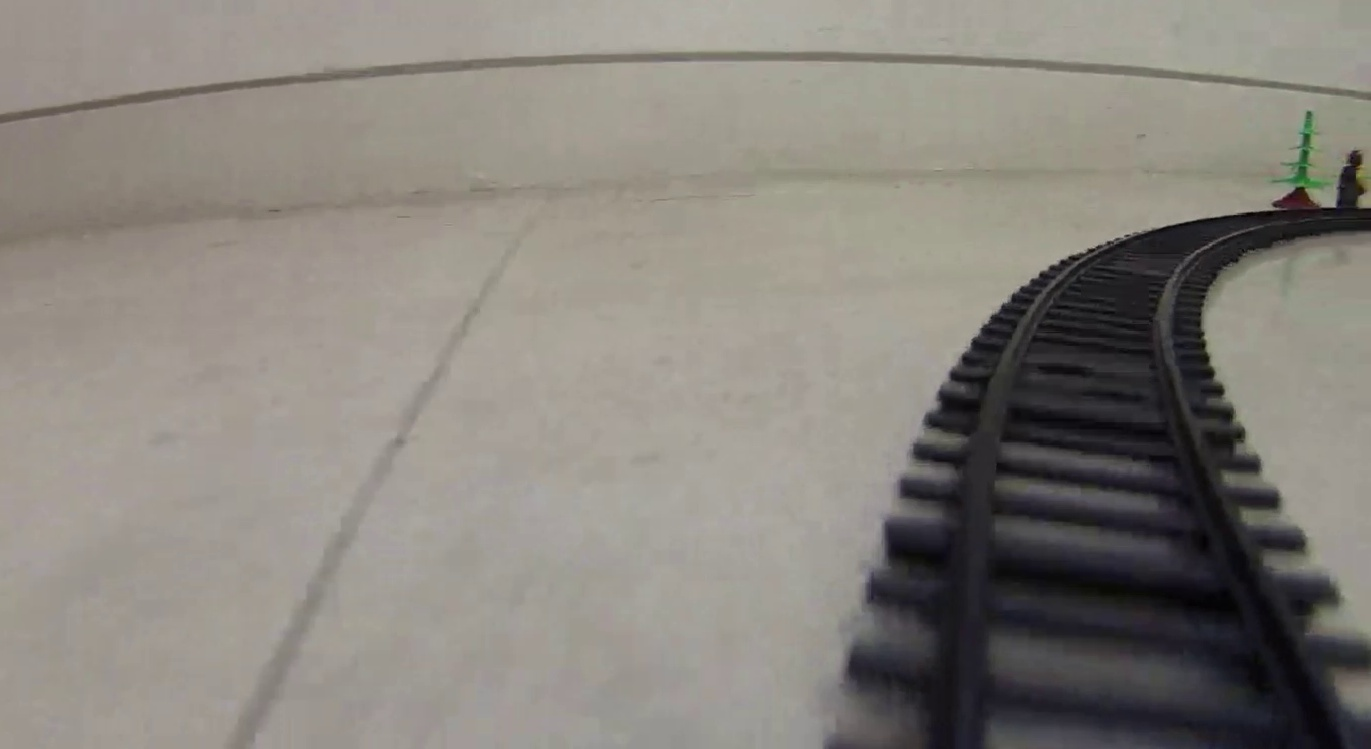people: (1336, 148, 1371, 211)
tree: (1273, 110, 1332, 210)
